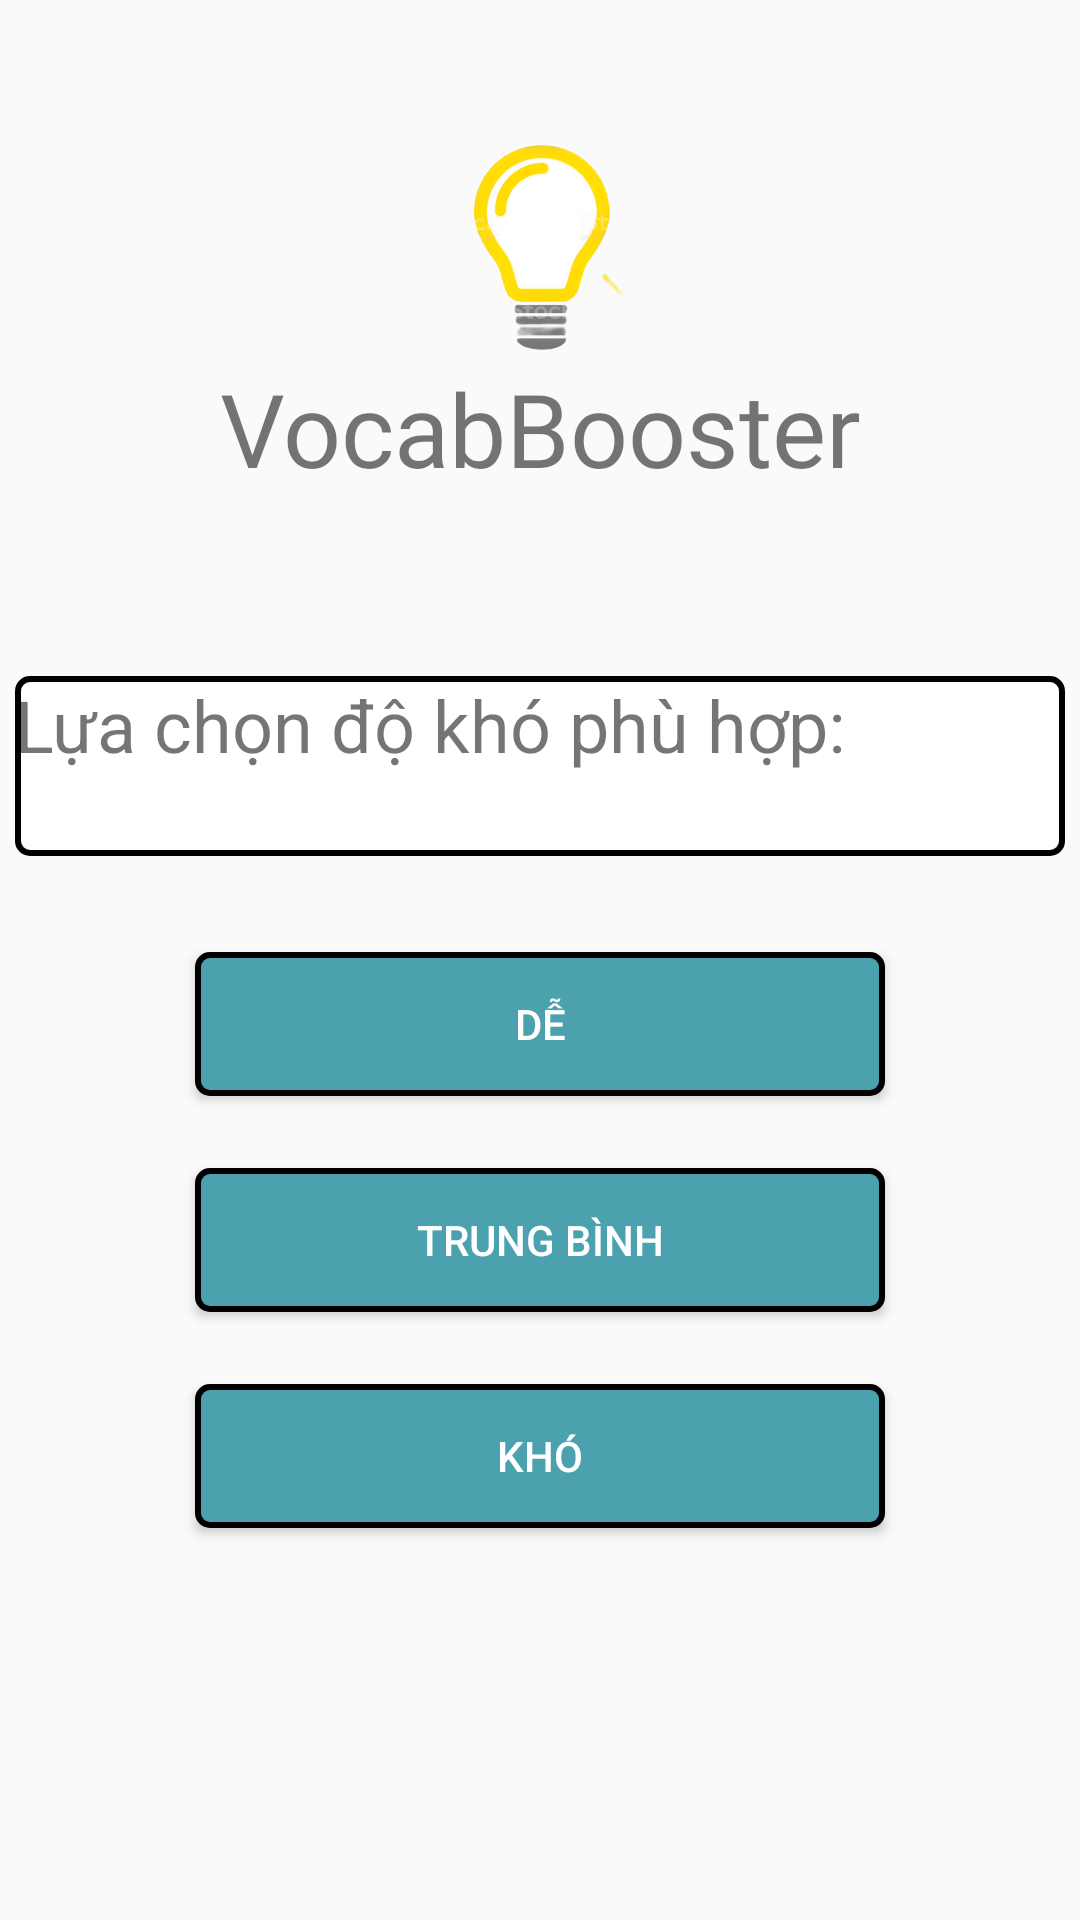

Screen size 1080px x 1920px. Icon name, then its center in pixels as [x,y]:
bongden: [548,247]
